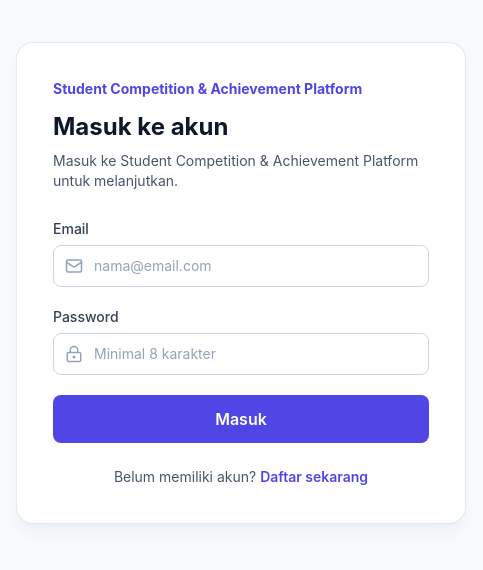
Test: LoginPage › shows validation errors when submitted empty
This screenshot has width=483, height=570.
Click the button "Masuk".
click(241, 419)  # box left=53, top=395, right=429, bottom=443
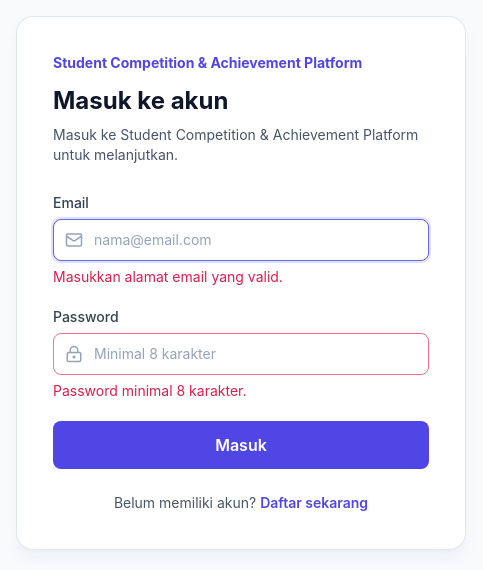
Result: the text "Masukkan alamat email yang valid." is shown at left=53, top=268, right=283, bottom=285
Result: the text "Password minimal 8 karakter." is shown at left=53, top=382, right=246, bottom=399
